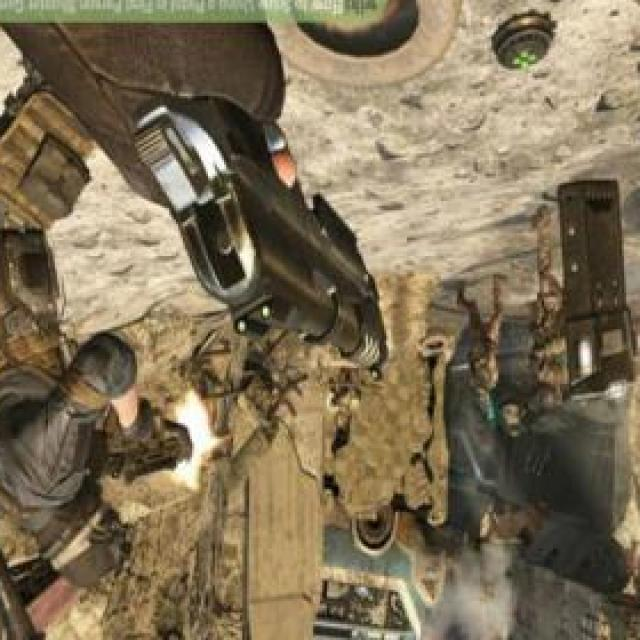pistol: (128, 83, 393, 382)
